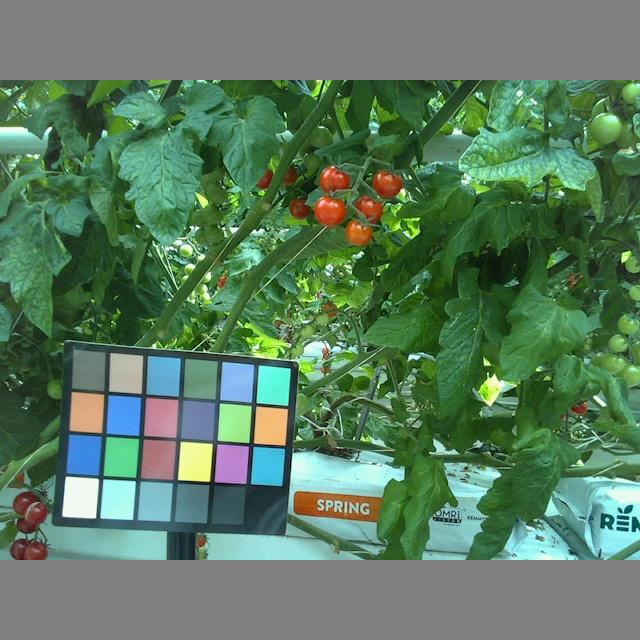green: (588, 107, 622, 145), (600, 347, 628, 375), (605, 330, 630, 354), (619, 310, 640, 337)
red: (372, 168, 410, 199), (319, 164, 352, 195), (315, 195, 346, 227), (353, 195, 383, 227), (342, 217, 374, 246)
